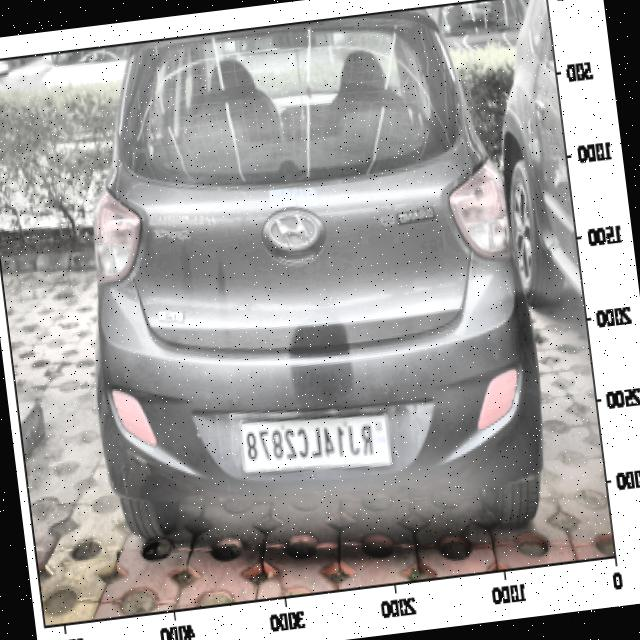license_plate: (237, 406, 386, 474)
